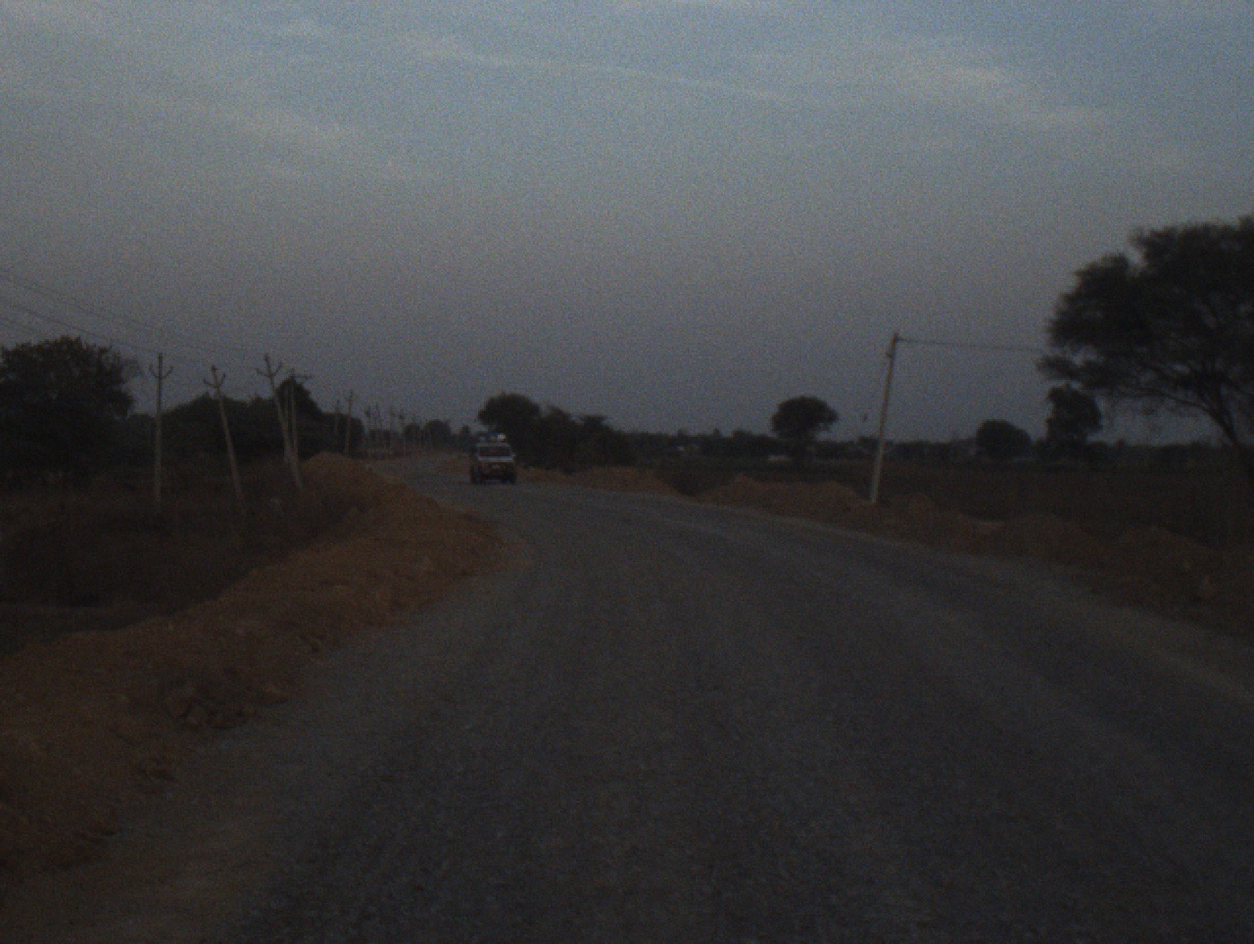car: (468, 429, 518, 490)
